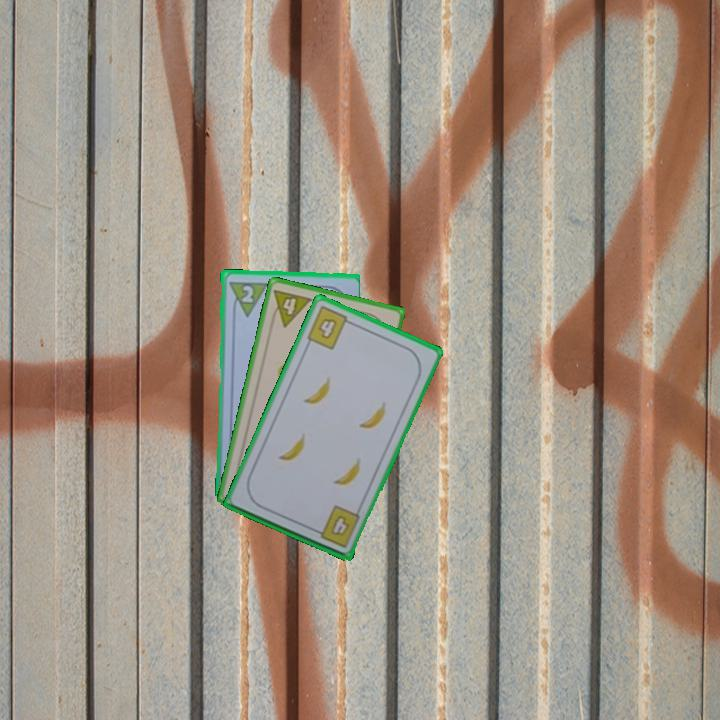2p: (238, 281, 256, 305)
4b: (303, 302, 356, 353), (310, 502, 363, 551)
4p: (267, 285, 315, 330)
